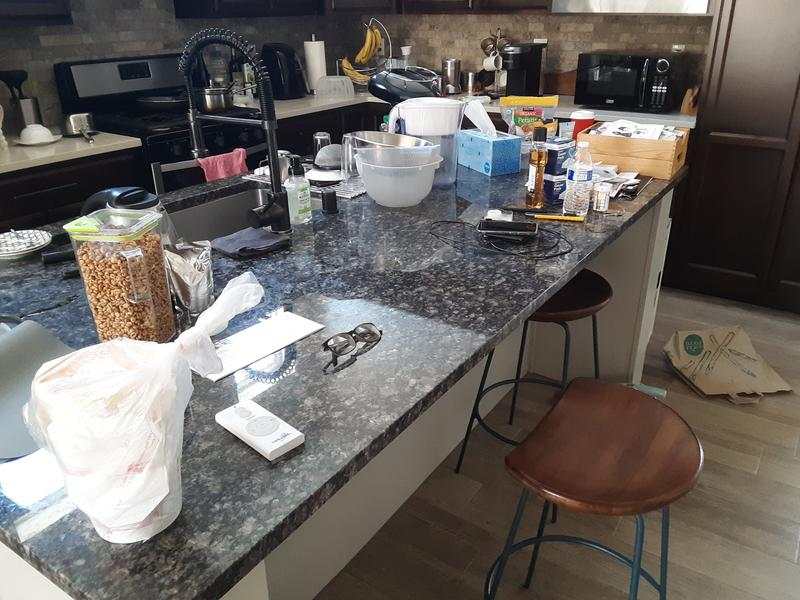glasses: (321, 322, 384, 367)
